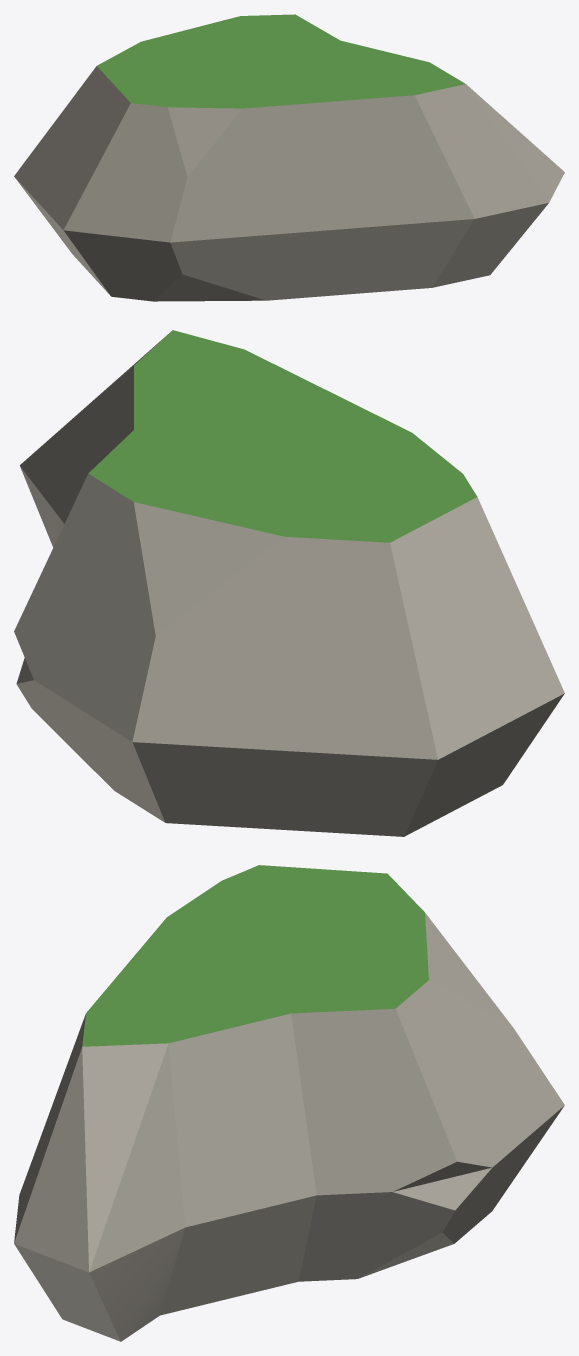
The model's file is rock-b.glb.
3 renders of one model, top to bottom at view 1: azimuth 30°, elevation 25°; view 2: azimuth 150°, elevation 25°; view 3: azimuth 270°, elevation 25°, orthographic. The views are drawn at different scales.
Visible parts, largest first — view 1: rock-b; view 2: rock-b; view 3: rock-b.
Part boxes in pixels (box(x1,y1,x2,y2)): rock-b: box(14, 14, 564, 301); rock-b: box(14, 330, 564, 836); rock-b: box(14, 865, 564, 1341).
Size of the model in its own units: 0.5678 by 0.2366 by 0.4524.
